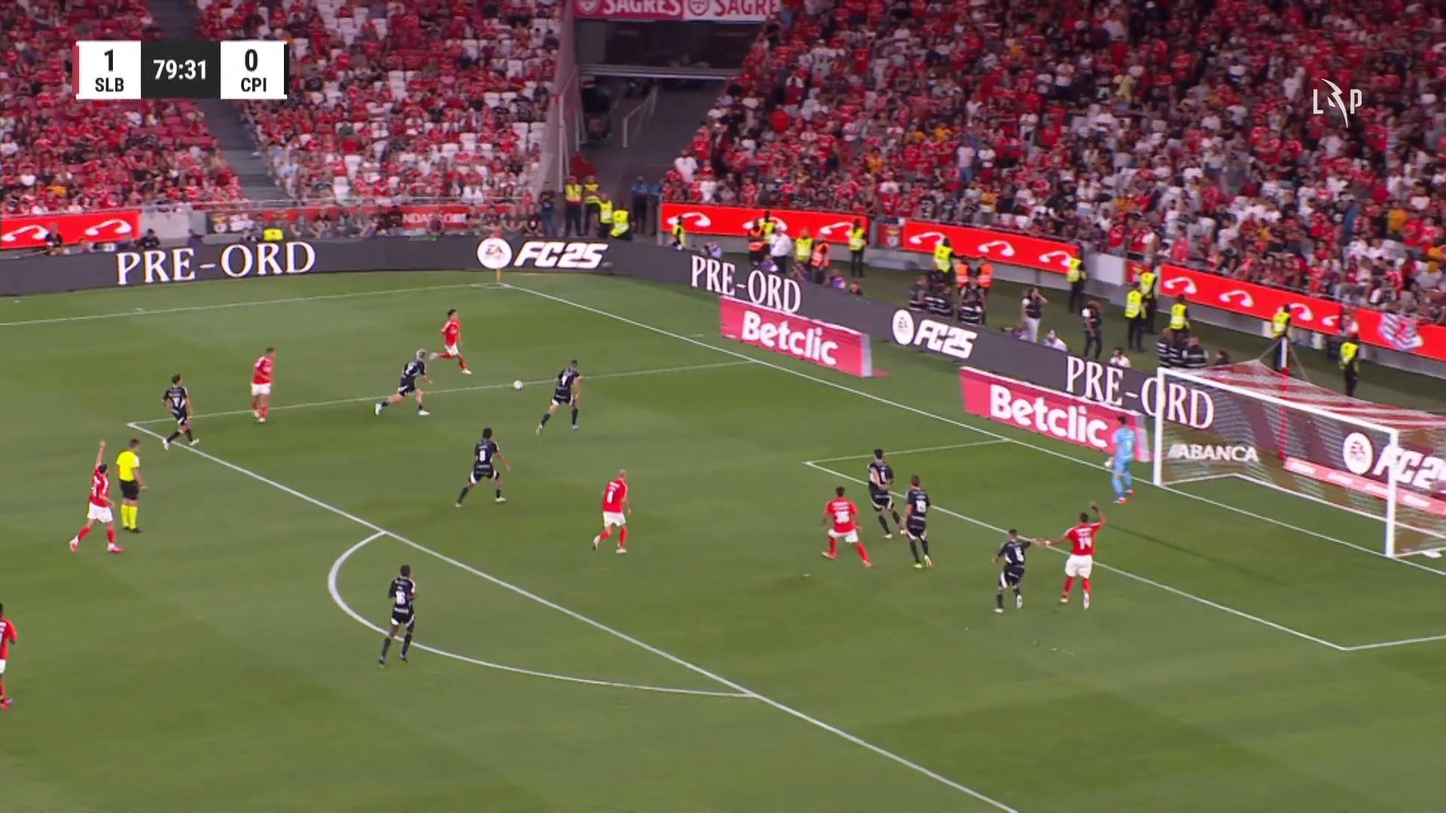ball: (512, 379, 523, 390)
goalkeeper: (1103, 413, 1136, 504)
player: (1042, 500, 1106, 609), (68, 439, 124, 553), (453, 426, 511, 507), (991, 526, 1042, 613), (819, 486, 873, 568), (377, 563, 417, 666), (374, 348, 433, 416), (866, 446, 905, 539), (535, 358, 582, 434), (591, 467, 631, 553), (426, 307, 472, 374), (160, 373, 200, 450), (901, 473, 932, 568), (249, 346, 276, 422), (0, 601, 17, 710)
referee: (114, 437, 148, 532)
